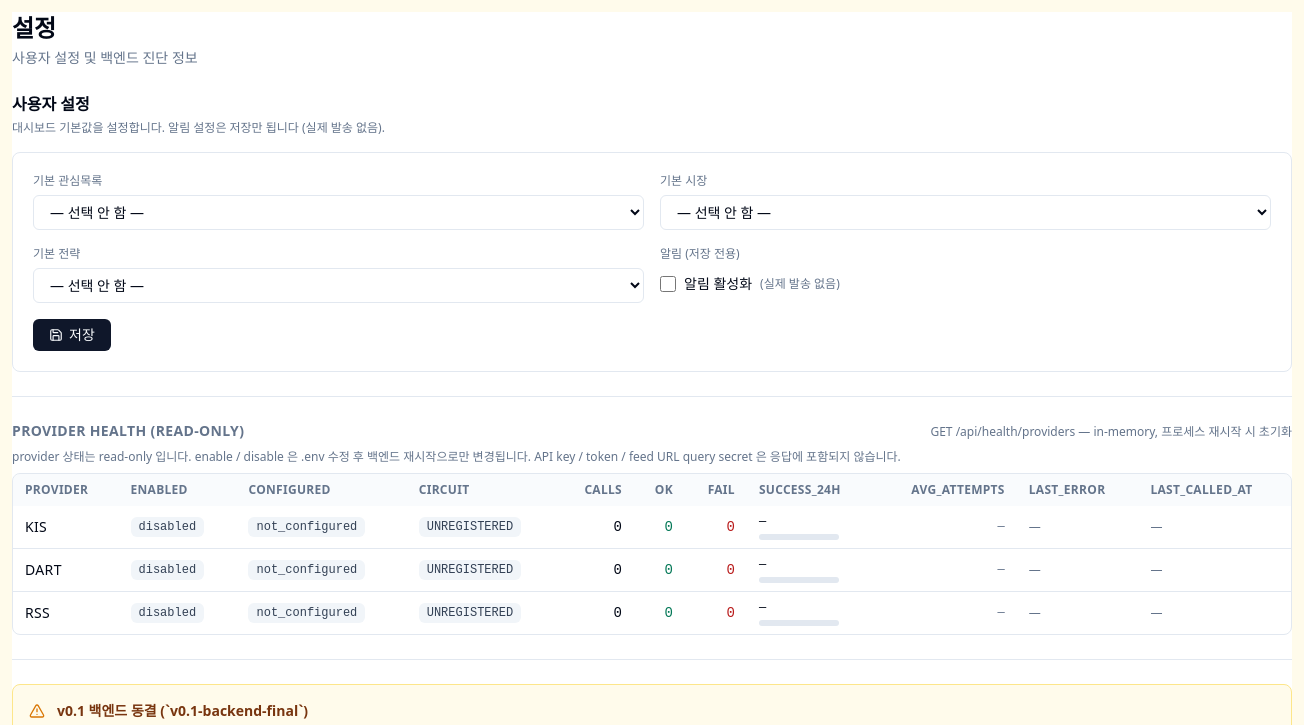
Test: SettingsPage — UserPreference section › updates default_strategy
Select "momentum" in the dropdown with test id "pref-default-strategy": (338, 286) [33,268,644,303]
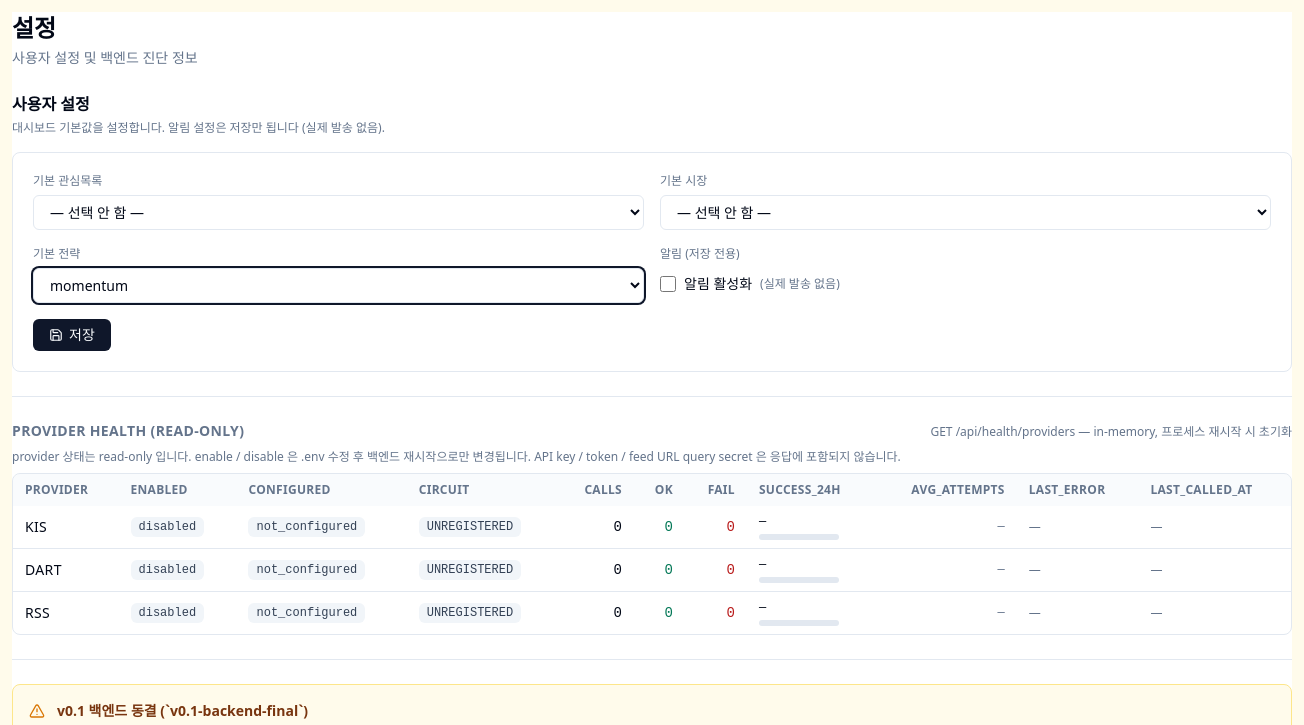
Click the button with test id "pref-save-btn": (72, 335) [33,319,111,351]
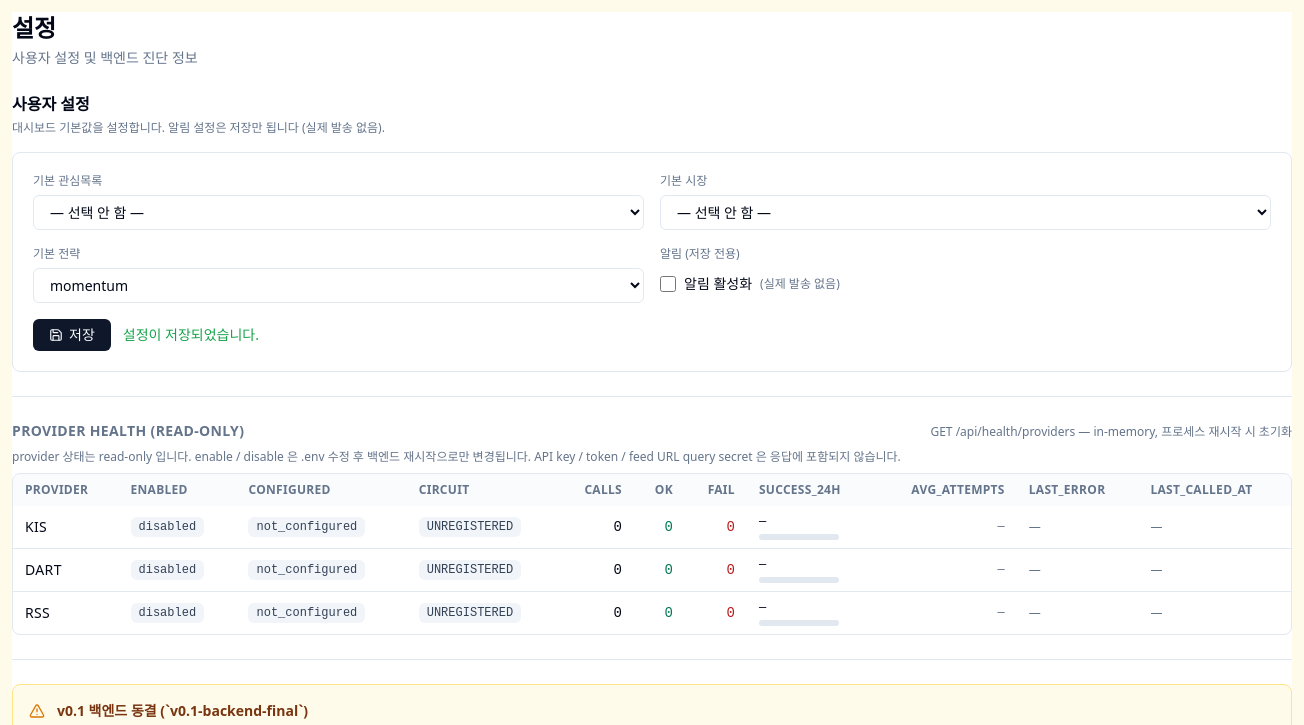
Expected: the text "설정이 저장되었습니다." is shown, [123,325,259,345]
